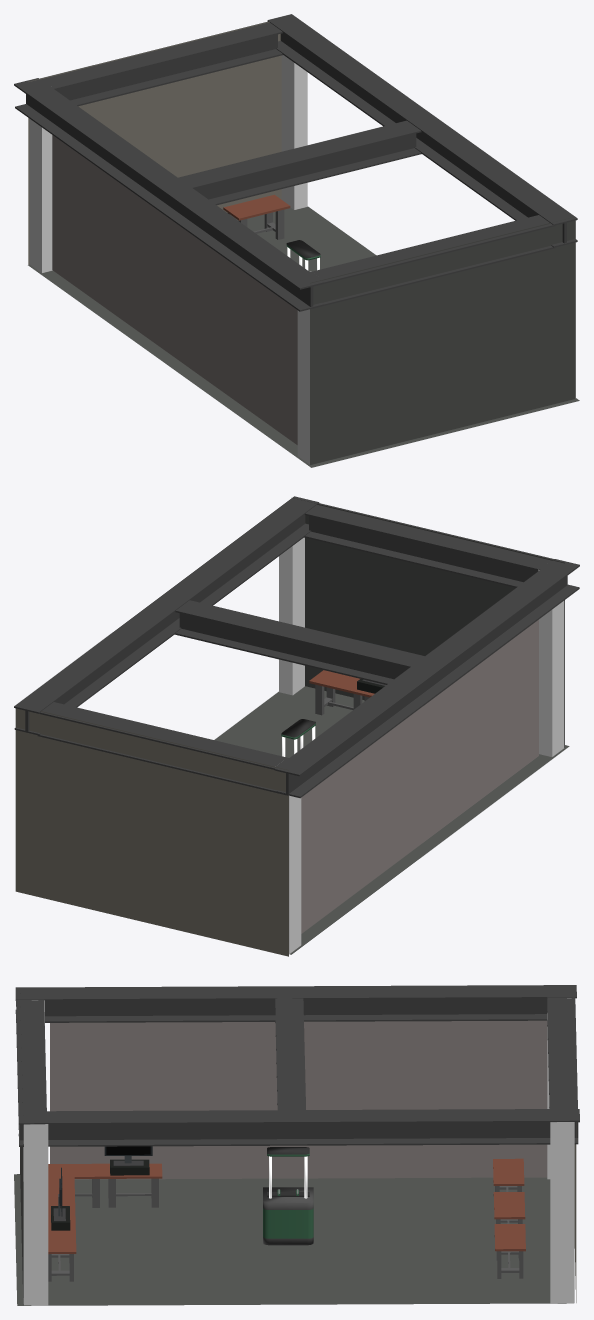
The model's file is escenario_flexion_madera1.gltf.
3 renders of one model, top to bottom at view 1: azimuth 30°, elevation 25°; view 2: azimuth 150°, elevation 25°; view 3: azimuth 270°, elevation 25°, orthographic.
Visible parts, largest first — view 1: Vigas_Amarre, ParedFondo, ParedIzquierda.005, ParedDerecha, Piso, Columna3, Columna4, Columna2, Mesa.Lab3; view 2: ParedDerecha, Vigas_Amarre, ParedIzquierda.005, ParedFondo, Piso, Columna2, Columna1, Columna3, Mesa.Lab8; view 3: Piso, ParedIzquierda.005, Vigas_Amarre, Columna1, Columna4, Plane.003, Mesa.Lab3, Computador1, Mesa.Lab8, Mesa.Lab5, Mesa.Lab4, Mesa.Lab1 (+6 smaller).
Boxes of the visible parts, bbox=[...] form: Vigas_Amarre: bbox=[14, 14, 577, 311]; ParedFondo: bbox=[310, 216, 575, 464]; ParedIzquierda.005: bbox=[52, 135, 297, 444]; ParedDerecha: bbox=[28, 21, 281, 264]; Piso: bbox=[28, 206, 579, 467]; Columna3: bbox=[29, 119, 52, 272]; Columna4: bbox=[281, 55, 307, 209]; Columna2: bbox=[297, 271, 311, 464]; Mesa.Lab3: bbox=[223, 194, 290, 239]; ParedDerecha: bbox=[15, 708, 288, 956]; Vigas_Amarre: bbox=[14, 496, 579, 798]; ParedIzquierda.005: bbox=[301, 619, 538, 933]; ParedFondo: bbox=[293, 498, 564, 747]; Piso: bbox=[214, 686, 569, 954]; Columna2: bbox=[538, 569, 564, 756]; Columna1: bbox=[279, 537, 304, 695]; Columna3: bbox=[275, 766, 301, 954]; Mesa.Lab8: bbox=[309, 670, 367, 715]; Piso: bbox=[14, 1174, 573, 1305]; ParedIzquierda.005: bbox=[50, 1020, 547, 1179]; Vigas_Amarre: bbox=[15, 985, 579, 1146]; Columna1: bbox=[23, 1124, 48, 1305]; Columna4: bbox=[550, 1122, 574, 1303]; Plane.003: bbox=[263, 1187, 313, 1245]; Mesa.Lab3: bbox=[494, 1224, 525, 1278]; Computador1: bbox=[104, 1146, 152, 1175]; Mesa.Lab8: bbox=[48, 1226, 76, 1281]; Mesa.Lab5: bbox=[48, 1163, 102, 1207]; Mesa.Lab4: bbox=[103, 1163, 162, 1207]; Mesa.Lab1: bbox=[493, 1158, 524, 1191].
Bounding box in the file's own units: 10.6 × 6.51 × 18.2.
